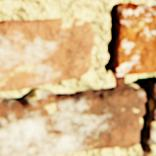brick: (0, 17, 94, 90), (115, 3, 155, 74), (135, 153, 155, 155)
broken_brick: (0, 90, 145, 155), (145, 104, 155, 143), (152, 84, 155, 98)
crack: (0, 1, 155, 154)
